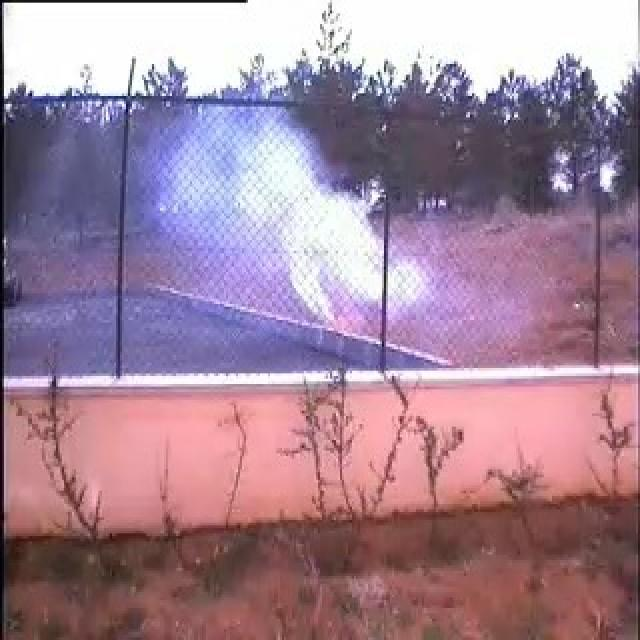smoke: (130, 94, 422, 370)
